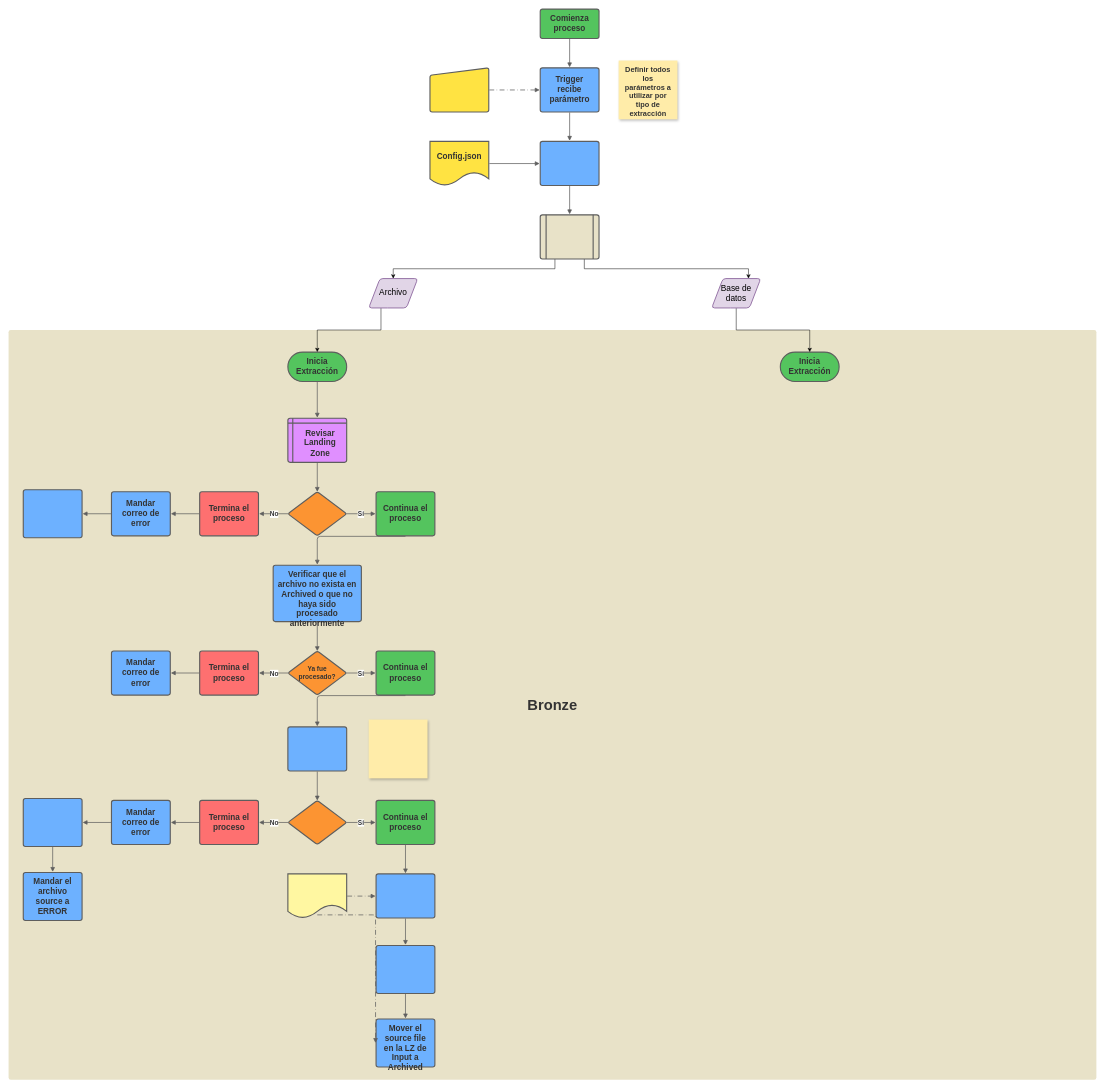
Some shapes in this 1104 by 1088 pixel diagram are drawn without their labels. The centre of each missing label's shape, as x and y in pixels:
"Configura Input manualmente" goes at point (459, 89).
"Copiar el archivo .parquet en DL Bronze" goes at point (405, 969).
"Crear un log con las validaciones que fallaron" goes at point (52, 822).
"Definir todas las validaciones a realizar en esta etapa" goes at point (398, 749).
"Existe el archivo en source?" goes at point (317, 513).
"Extraer parametros del proceso" goes at point (569, 163).
"Mandar correo al responsable del source" goes at point (52, 513).
"Source file" goes at point (317, 895).
"Tipo de Extracción" goes at point (569, 236).
"Todas las validaciones correctas?" goes at point (317, 822).
"Transformar a .parquet" goes at point (405, 895).
"Validar datos en archivo fuente" goes at point (317, 748).
